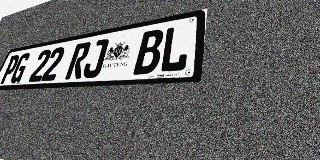2: (41, 46, 66, 81), (28, 48, 53, 82)
B: (133, 28, 165, 75)
G: (9, 52, 32, 83)
J: (81, 38, 110, 78)
L: (158, 23, 192, 73)
P: (0, 54, 21, 84)
R: (65, 41, 92, 79)
